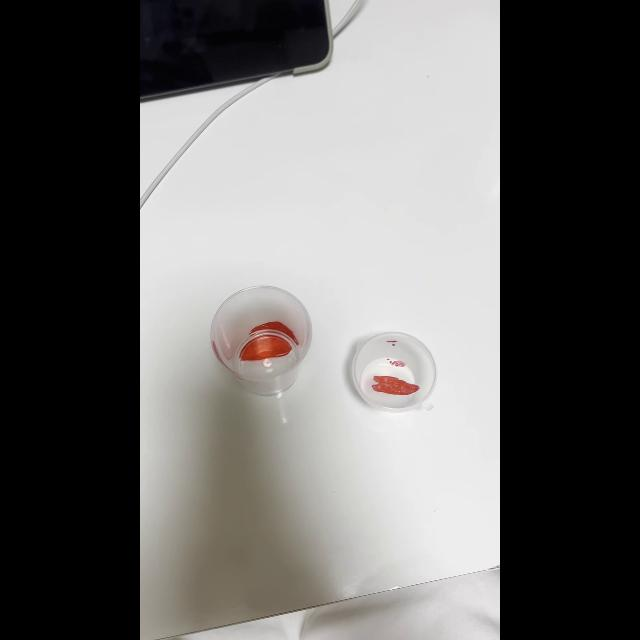dirty: (210, 286, 312, 394), (351, 332, 437, 412)
